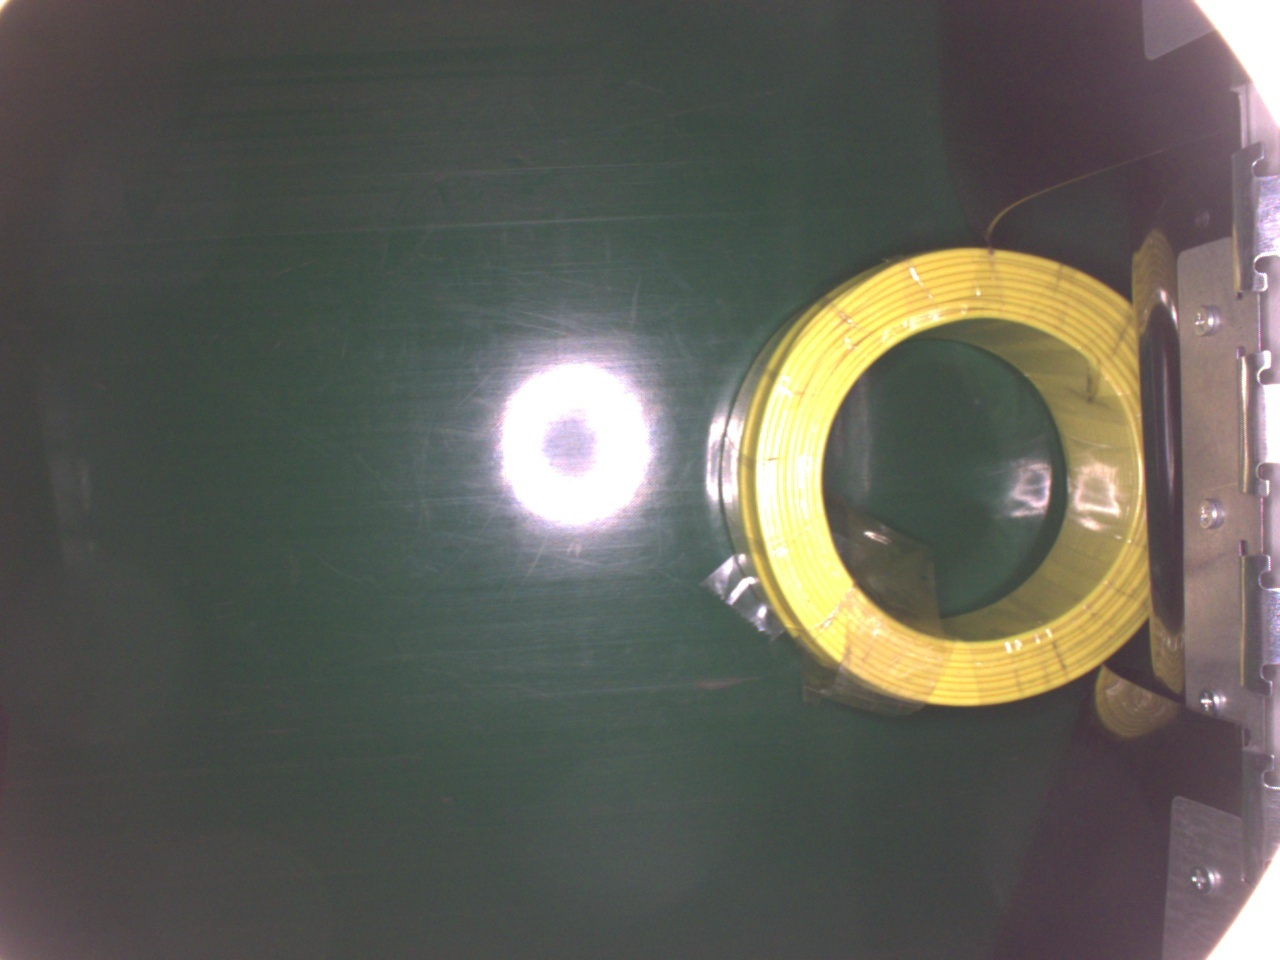yellow: (717, 242, 1150, 704)
